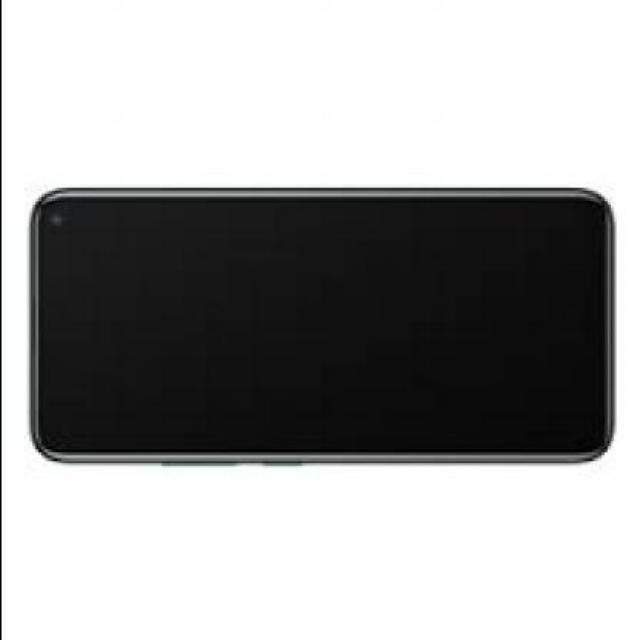phone: (26, 185, 612, 469)
